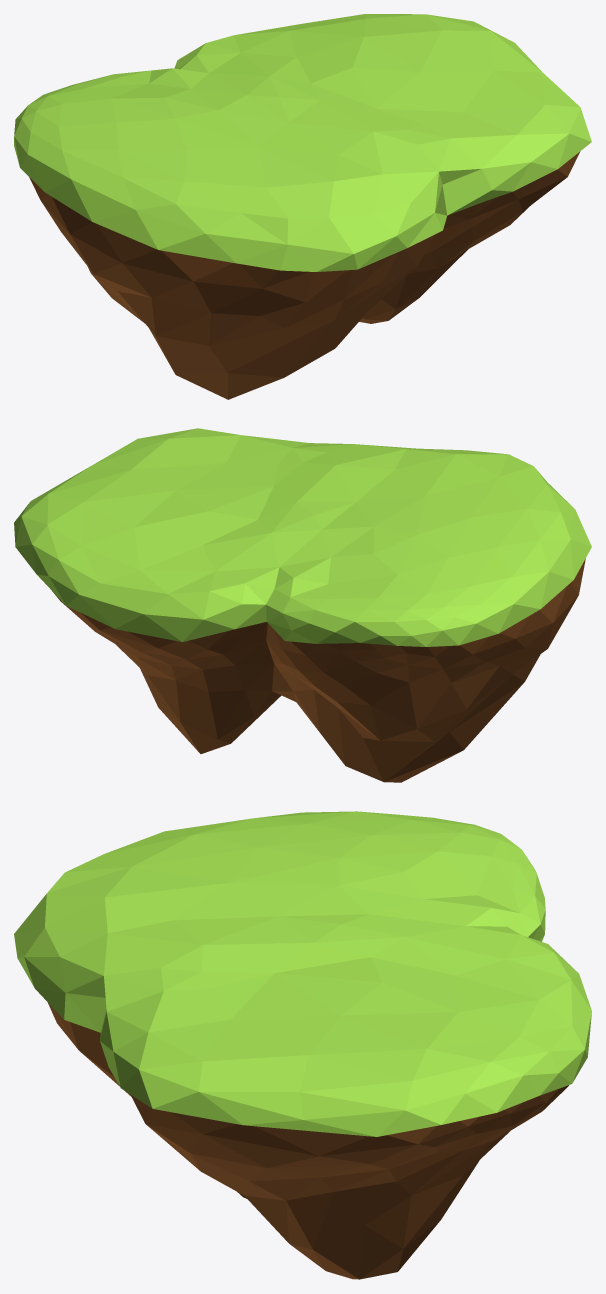
File: mainIsland (1).fbx
3 renders of one model, top to bottom at view 1: azimuth 30°, elevation 25°; view 2: azimuth 150°, elevation 25°; view 3: azimuth 270°, elevation 25°, orthographic. The views are drawn at different scales.
Parts seen in each view (by area): view 1: Icosphere; view 2: Icosphere; view 3: Icosphere.
Boxes of the visible parts, x1,y1,x2,y2 form: Icosphere: [14, 14, 591, 399]; Icosphere: [14, 428, 591, 782]; Icosphere: [14, 811, 591, 1279].
Bounding box in the file's own units: 3517 × 1851 × 2978.
